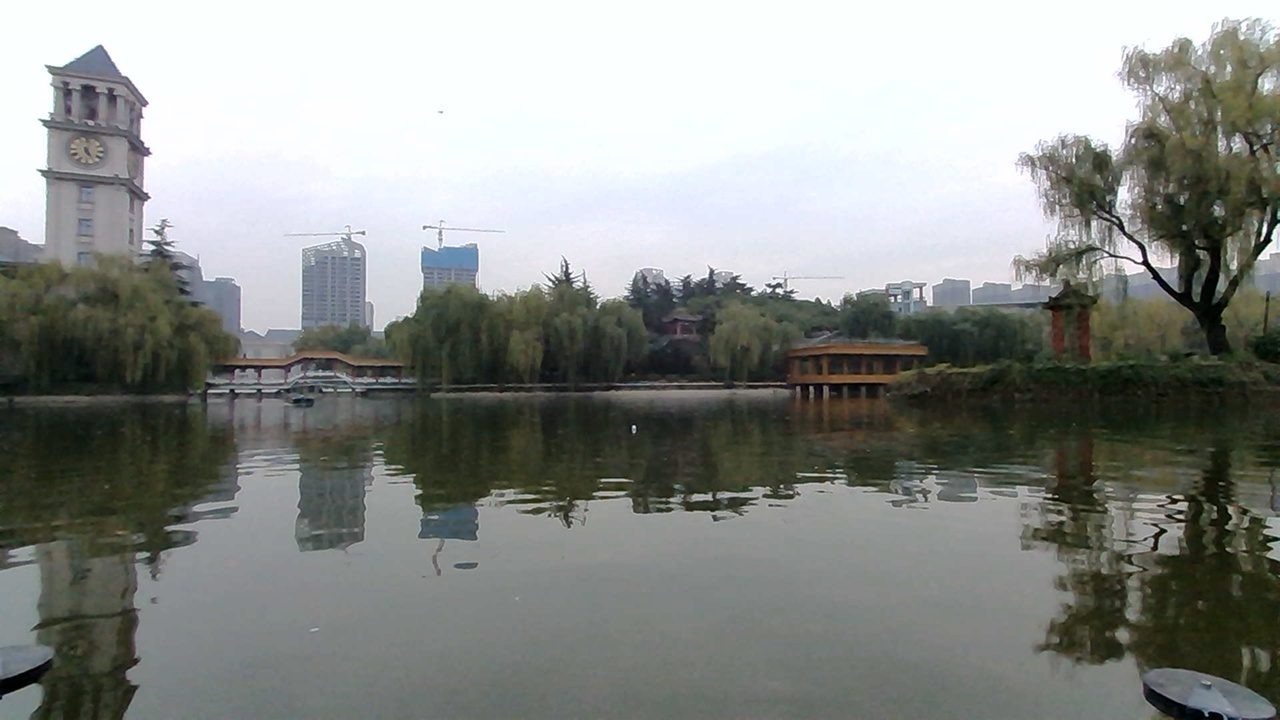bottle: (624, 415, 668, 448)
